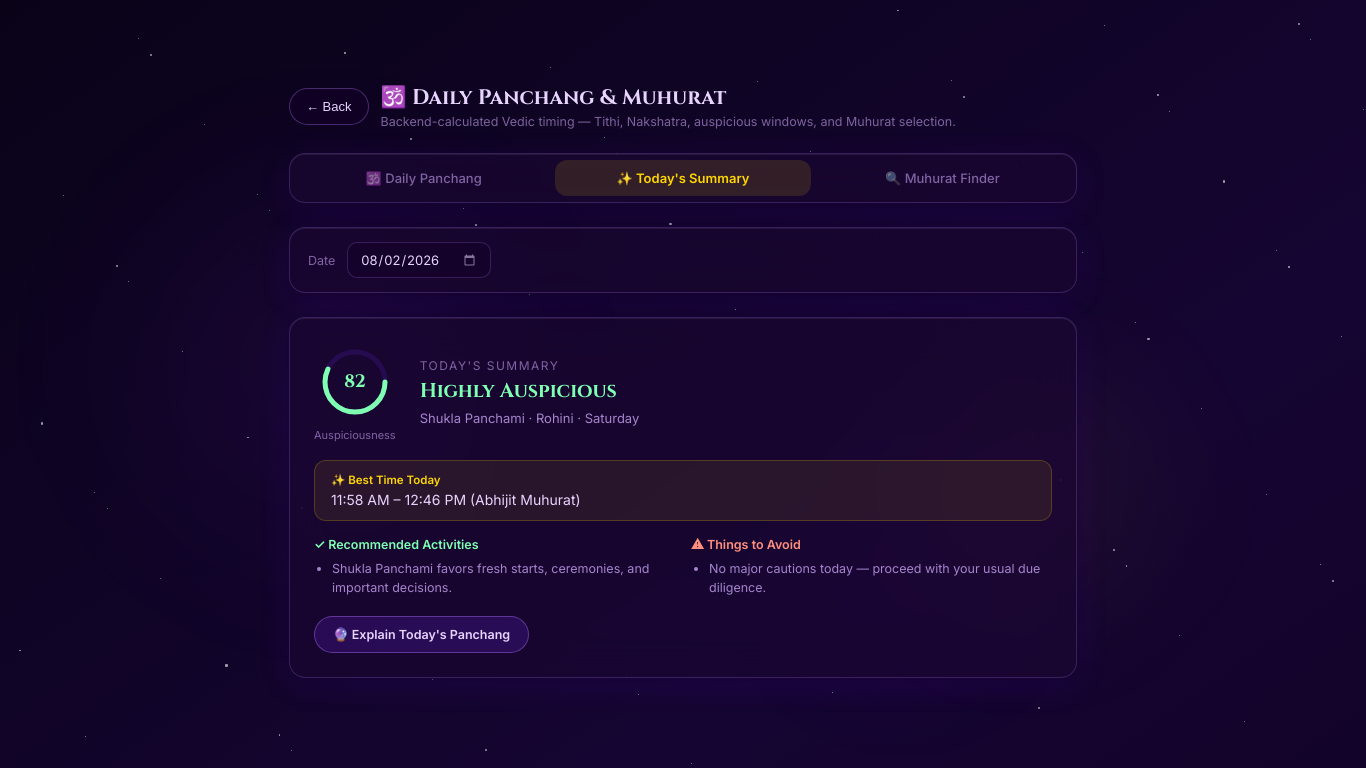
Test case: PanchangPage › switches to the Daily Panchang tab and shows the five Panchang limbs
Expected: the text "Highly Auspicious" is shown, [420,377,617,404]
Click the button "🕉️ Daily Panchang" at (424, 178), box [296,160,551,196]
(page scrolled)
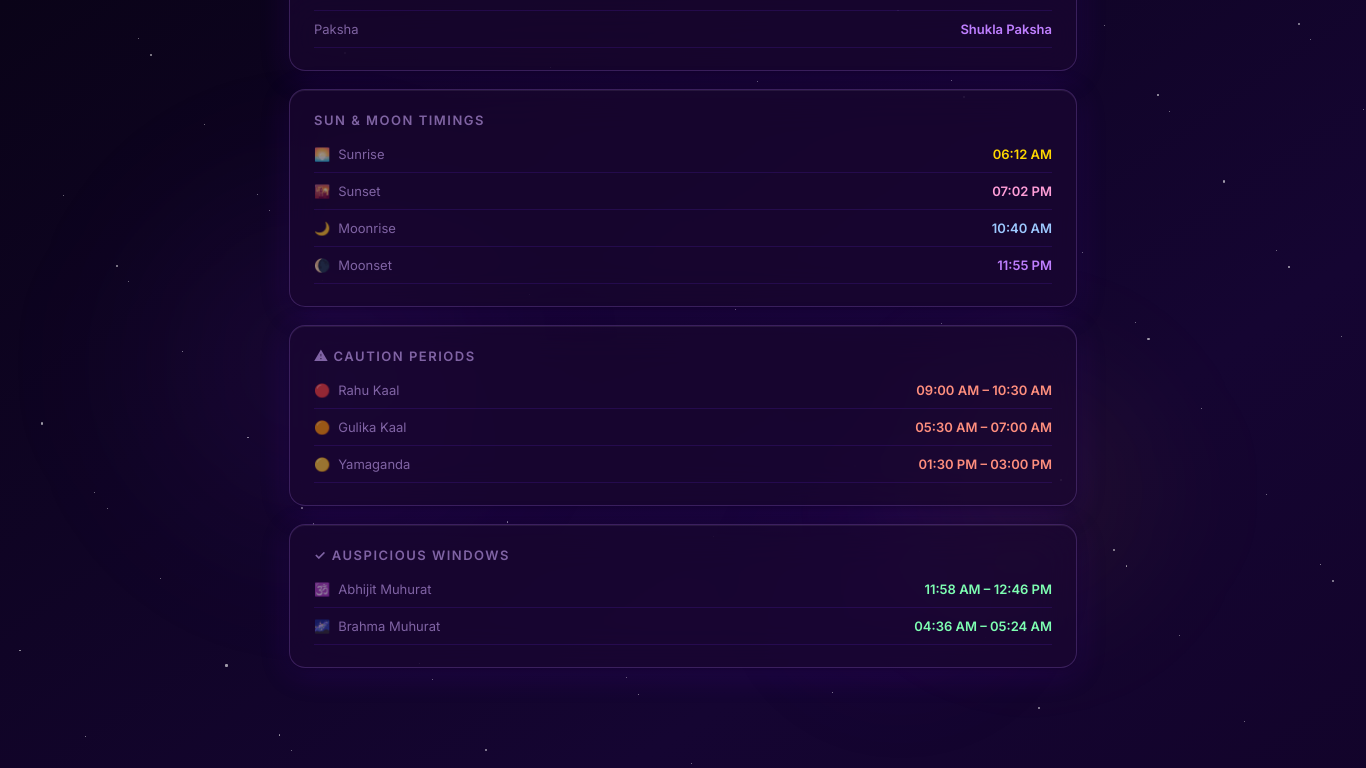
Expected: the text "🔴 Rahu Kaal" is shown, [314,382,399,398]
Expected: the text "🕉️ Abhijit Muhurat" is shown, [314,581,432,597]
